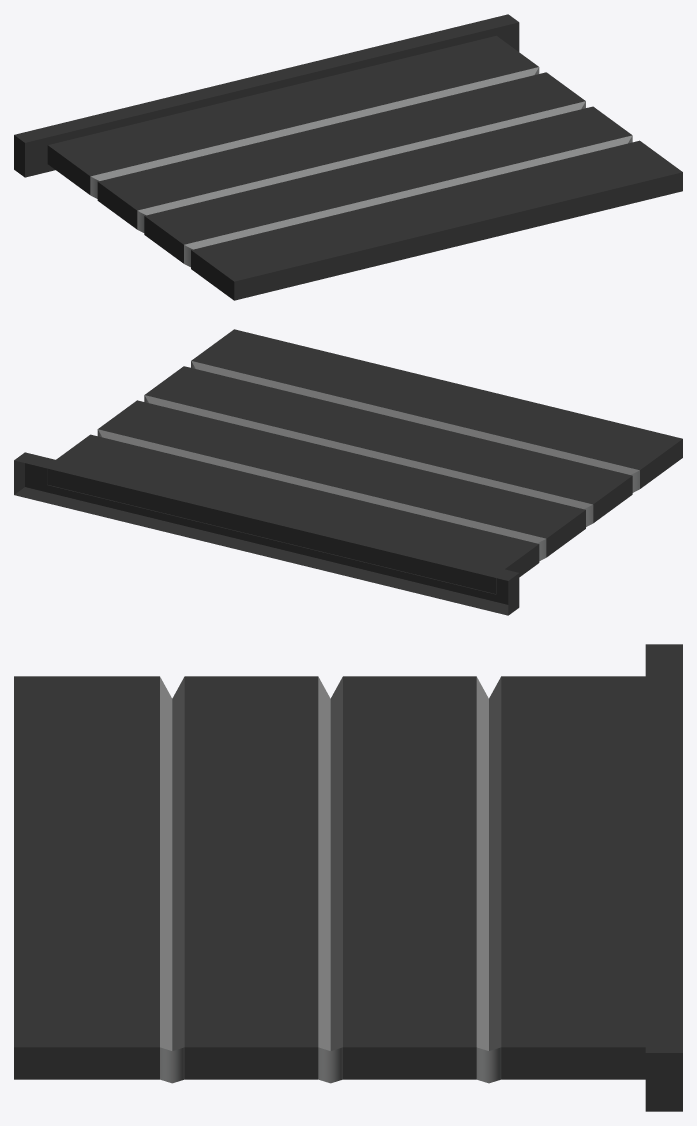
The model's file is Awning_A_03.FBX.
3 renders of one model, top to bottom at view 1: azimuth 30°, elevation 25°; view 2: azimuth 150°, elevation 25°; view 3: azimuth 270°, elevation 25°, orthographic. The views are drawn at different scales.
Parts seen in each view (by area): view 1: Awning_A_03; view 2: Awning_A_03; view 3: Awning_A_03.
Part boxes in pixels (x1,y1,x2,y2): Awning_A_03: [14, 14, 682, 300]; Awning_A_03: [14, 329, 682, 615]; Awning_A_03: [14, 644, 682, 1111].
Bounding box in the file's own units: 2.36 × 0.1583 × 1.63.
